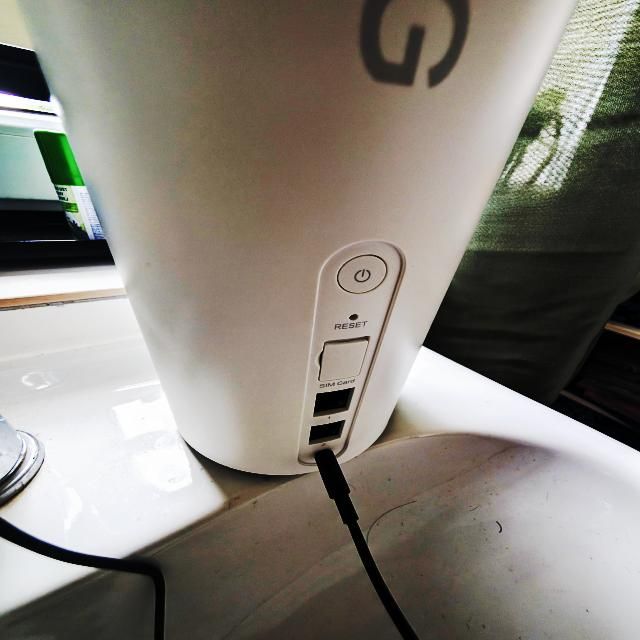lan: (313, 387, 355, 417), (308, 420, 348, 446)
modem: (0, 0, 583, 475)
onbutton: (333, 252, 392, 296)
powcab: (264, 450, 409, 602)
sim: (317, 336, 365, 388)
